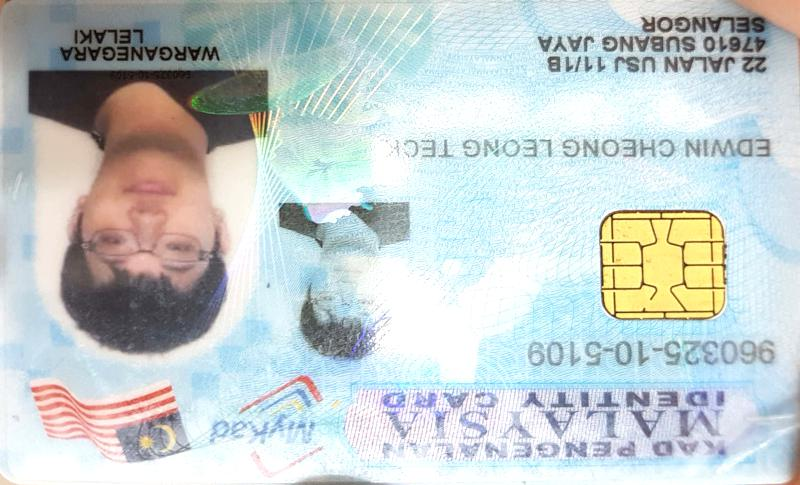hologramB: (266, 10, 387, 200)
